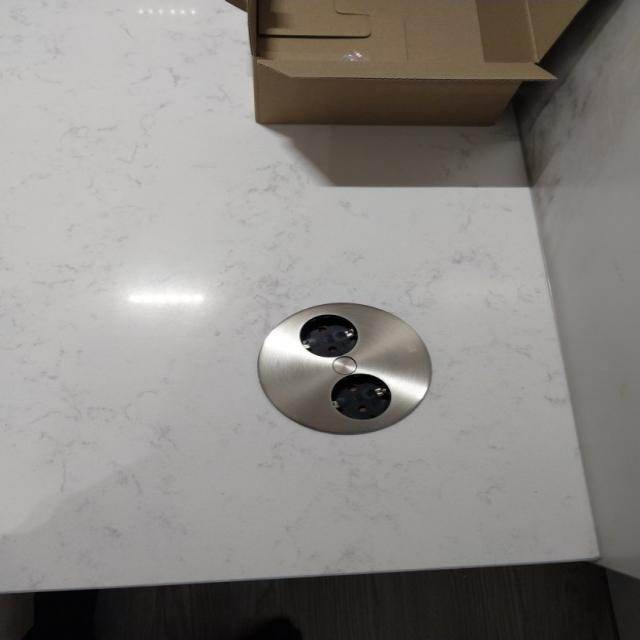typeb: (169, 244, 489, 472)
